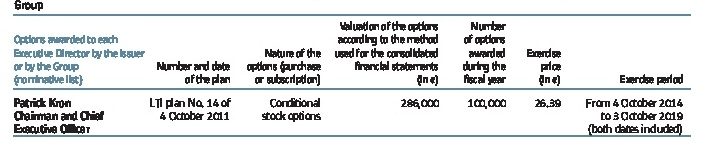table: (0, 0, 705, 150)
